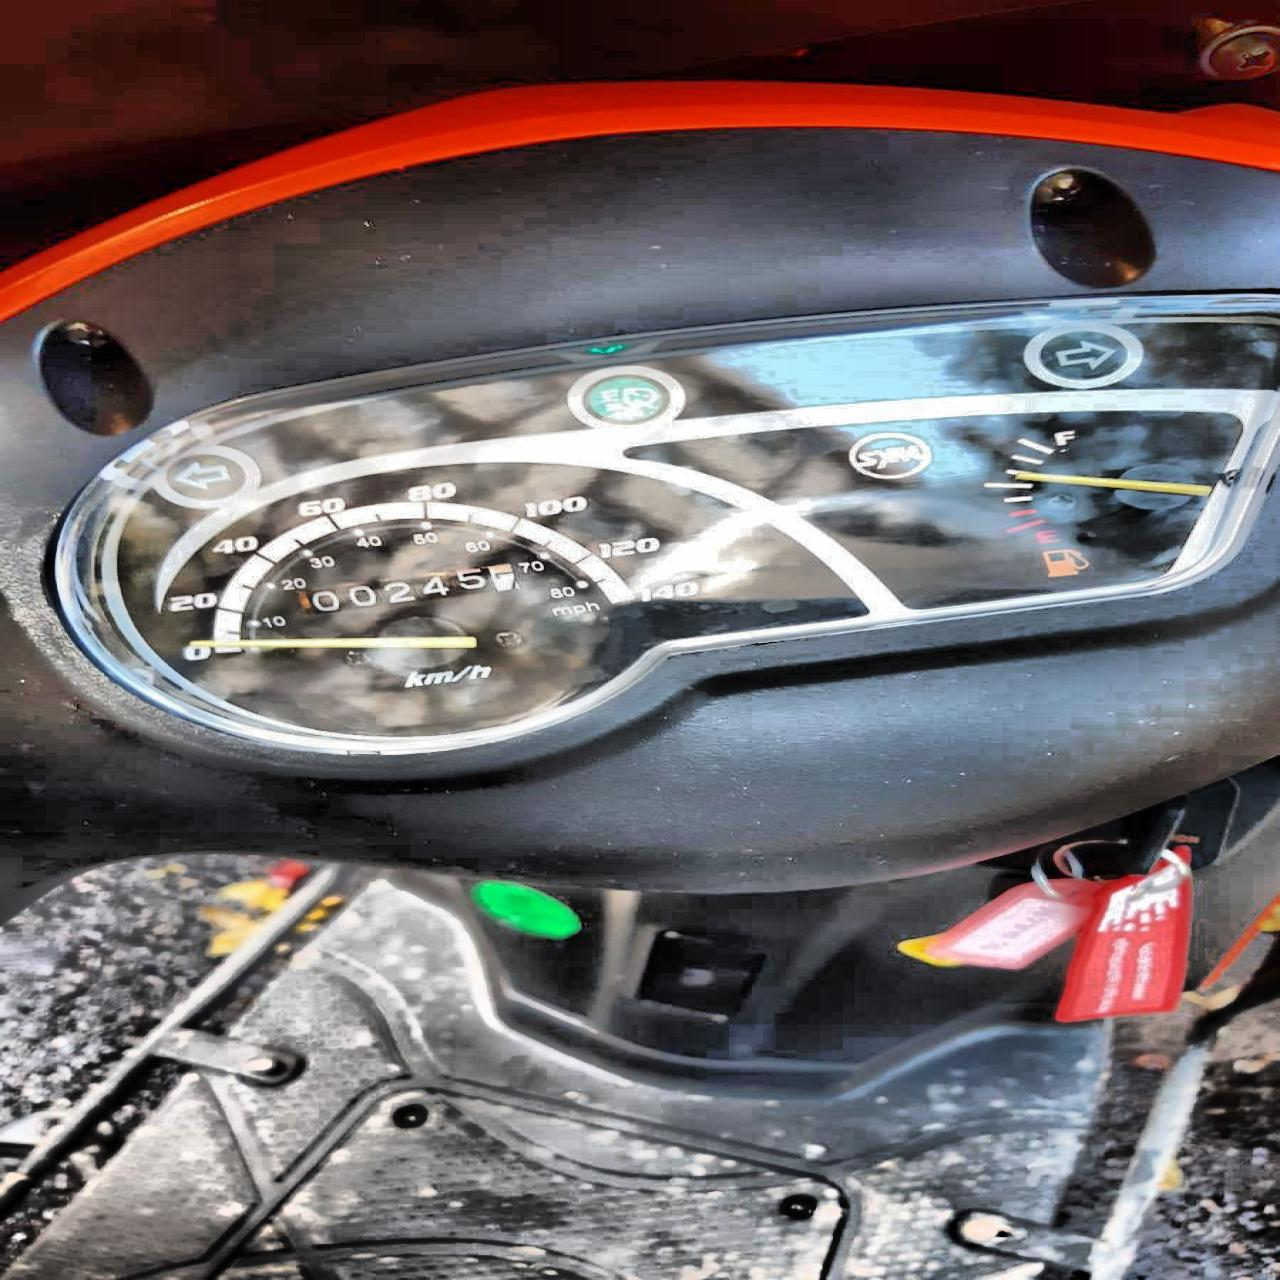0: (346, 584, 376, 606), (310, 590, 339, 611), (292, 576, 306, 588)
2: (383, 581, 414, 603)
4: (422, 574, 448, 596)
5: (456, 568, 484, 589)
7: (492, 571, 516, 589)
odometer: (290, 562, 522, 615)
